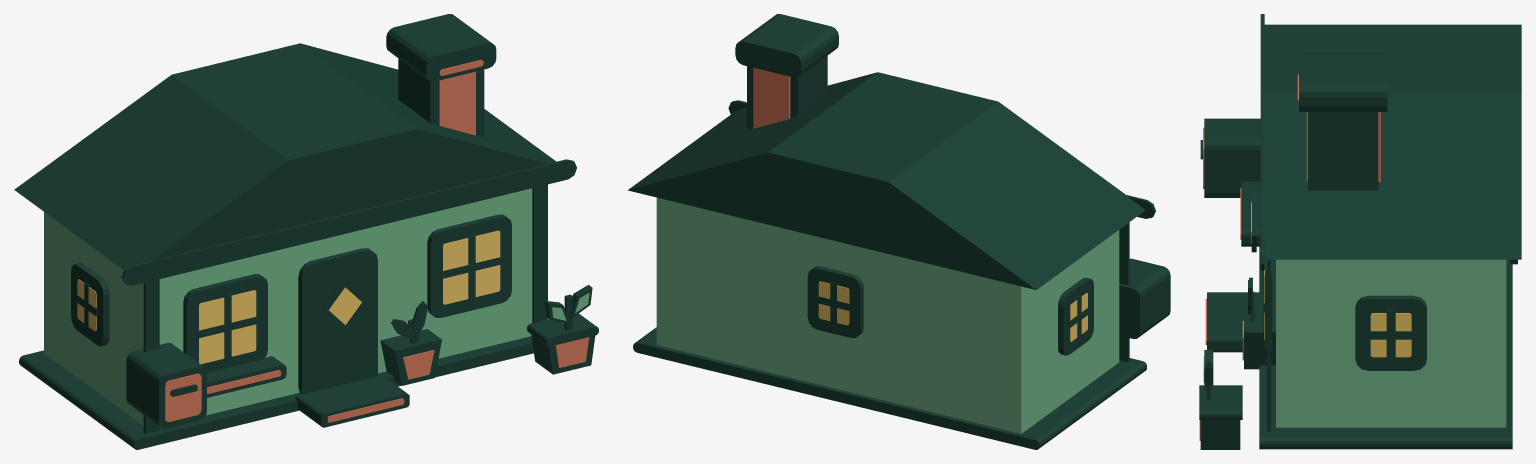
3 renders of one model, left to right at view 1: azimuth 30°, elevation 25°; view 2: azimuth 150°, elevation 25°; view 3: azimuth 270°, elevation 25°, orthographic. The views are drawn at different scales.
Parts seen in each view (by area): view 1: Rent Free house; view 2: Rent Free house; view 3: Rent Free house.
Part boxes in pixels (bbox=[...]): Rent Free house: bbox=[14, 14, 598, 449]; Rent Free house: bbox=[628, 14, 1170, 449]; Rent Free house: bbox=[1199, 14, 1521, 449].
Bounding box in the file's own units: 1.29 × 0.8257 × 0.72.
